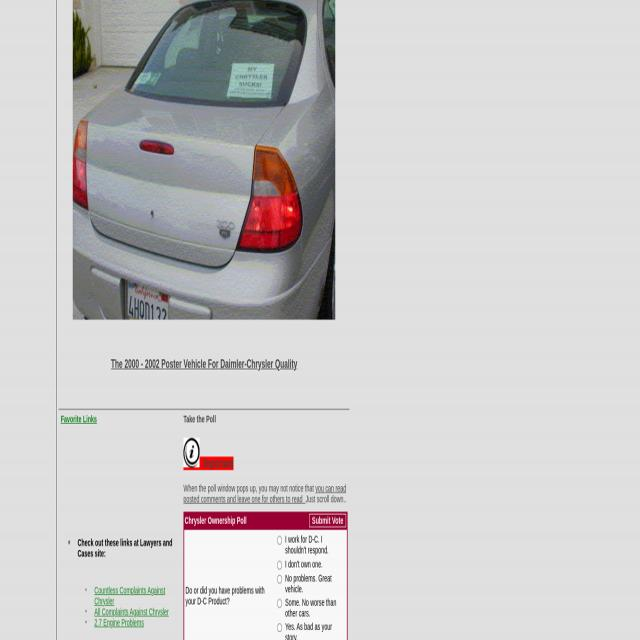button: (72, 0, 335, 318), (308, 512, 346, 527), (183, 437, 199, 466)
field: (276, 534, 282, 544), (276, 559, 282, 569), (276, 574, 282, 584), (276, 598, 282, 608), (276, 622, 282, 632)
